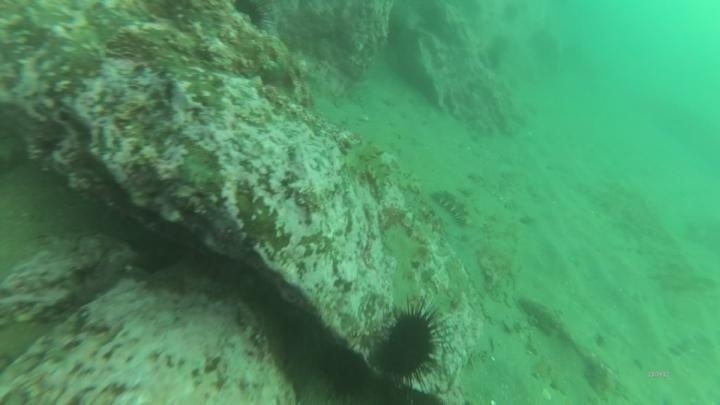echinus: (372, 302, 445, 387), (312, 340, 374, 401)
holothurian: (428, 186, 480, 231)
